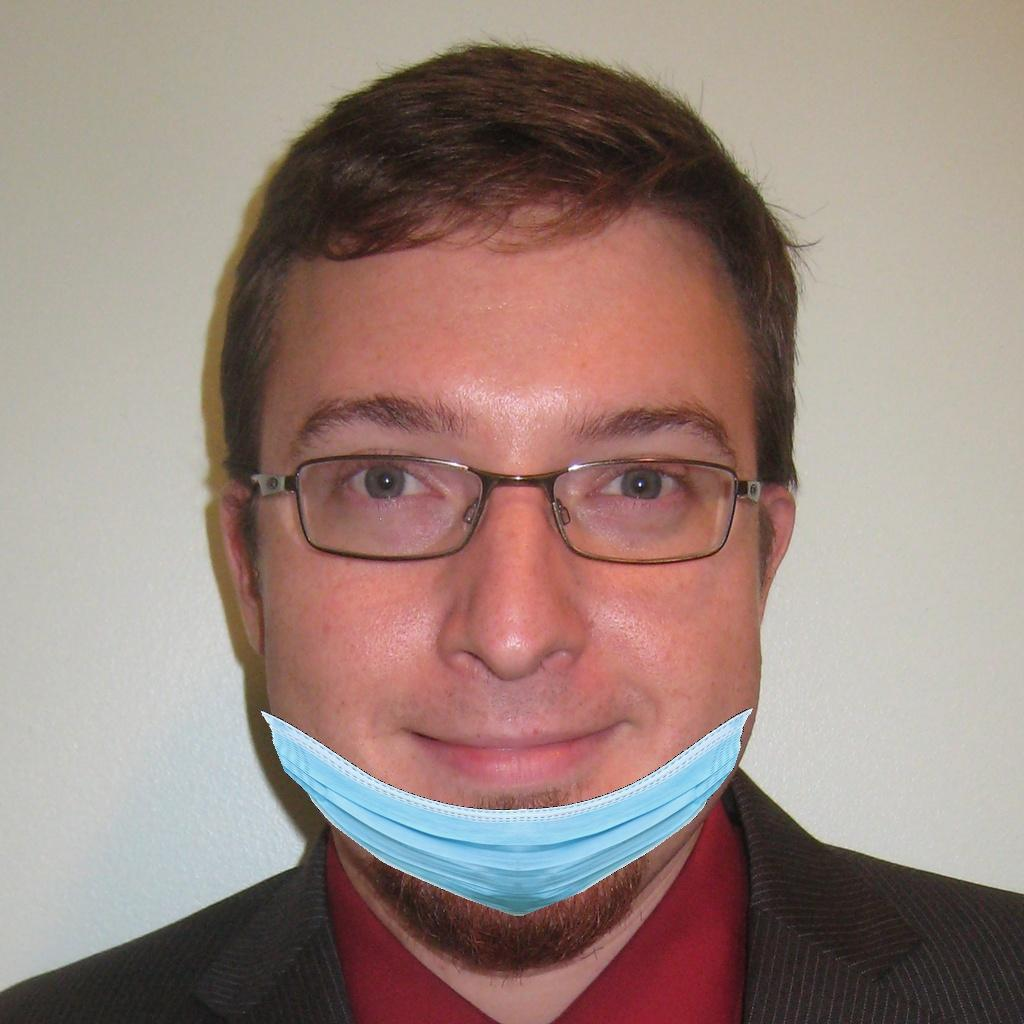Máscara Incorreta: (239, 296, 755, 934)
